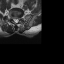CCS_normal: (15, 16, 17, 24)
LFS_severe_stenosis: (19, 15, 20, 20)
LLS_normal: (17, 16, 19, 23)
RFS_stenosis: (11, 16, 13, 20)
RLS_normal: (13, 16, 15, 23)
